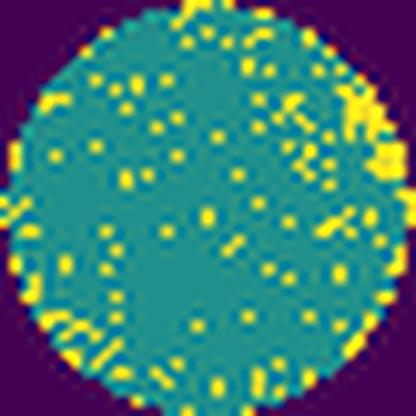Edge-Loc: (334, 69, 398, 139), (367, 137, 410, 185)
